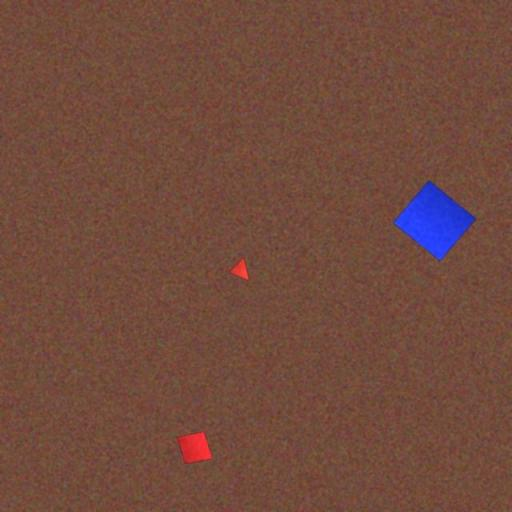BLUE_SQUARE: (393, 180, 477, 262)
RED_SQUARE: (176, 431, 214, 465)
